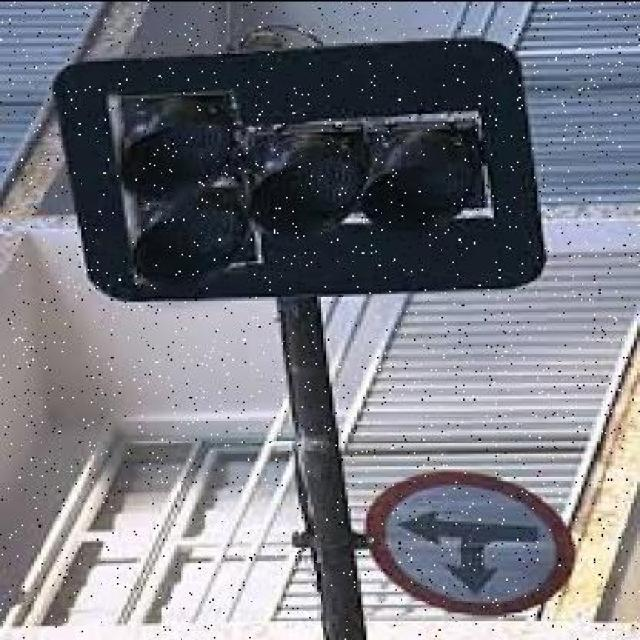traffic-light: (41, 53, 578, 308)
